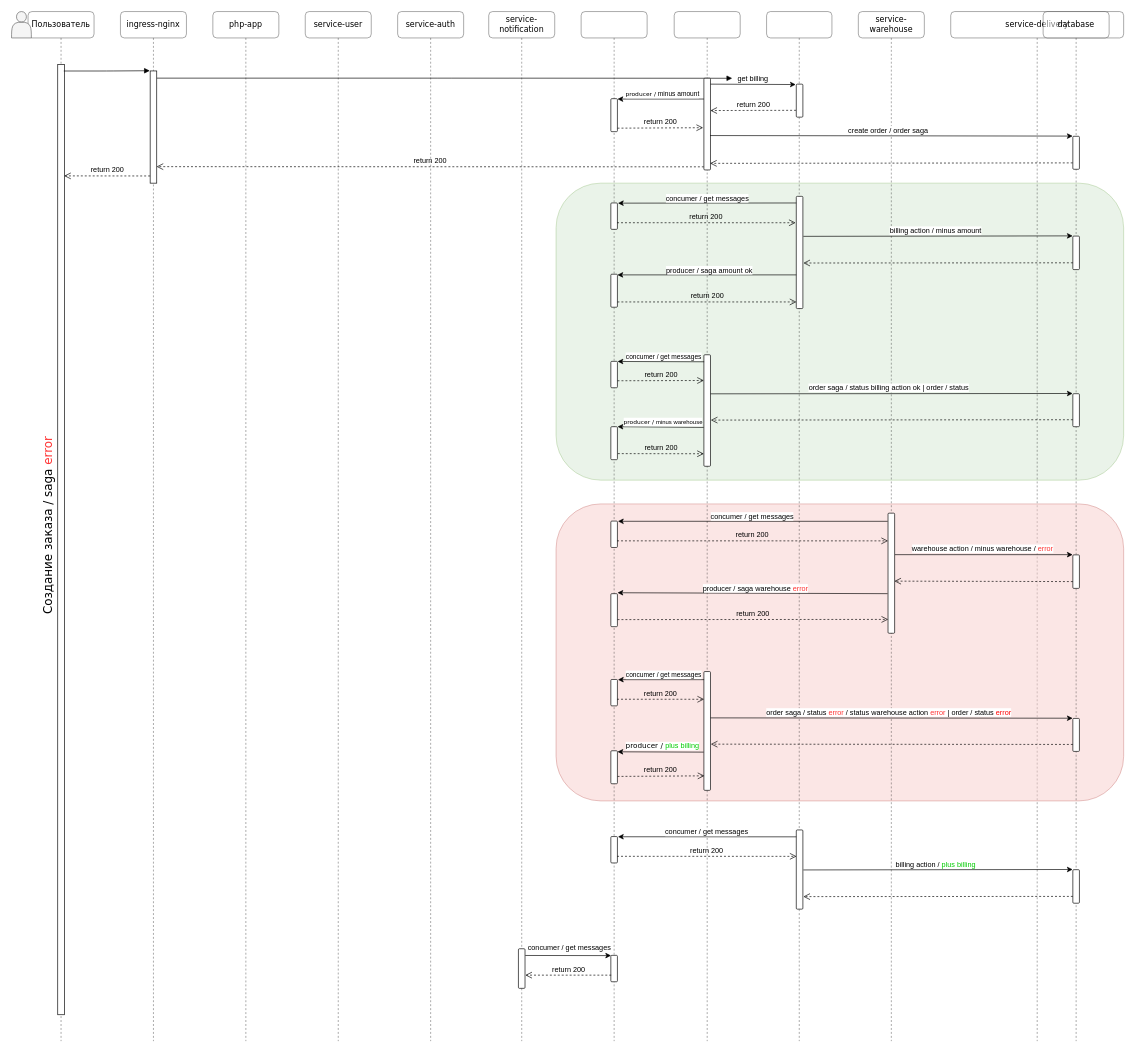
The diagram is 1135 pixels wide and 1053 high, and some of its shapes have lost their labels. Here are the shapes that lost their labels. From the top down, the centre of each, then its label:
At point (613, 526): "RabbitMQ".
At point (707, 526): "service-order".
At point (799, 526): "service-billing".
